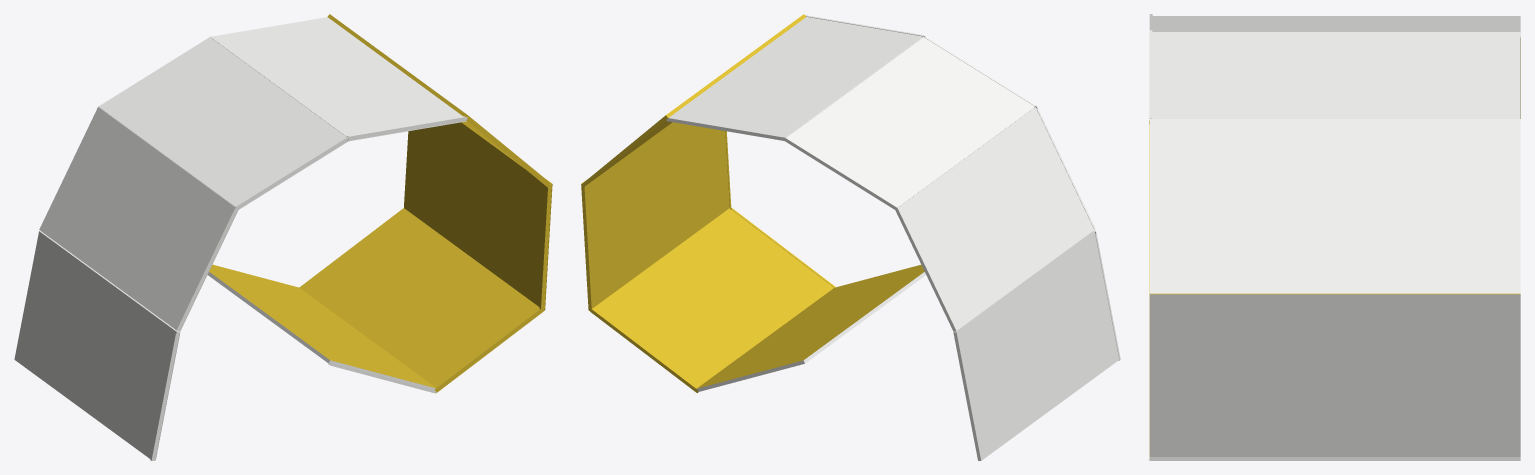
Rendered from mamparas al fallo.glb.
3 views of the same model, side by side, from view 1: azimuth 30°, elevation 25°; view 2: azimuth 150°, elevation 25°; view 3: azimuth 270°, elevation 25° (orthographic). The views are drawn at different scales.
Visible parts, largest first — view 1: Body6, Body11, Body7, Body1, Body10, Body8, Body12, Body9; view 2: Body6, Body11, Body7, Body1, Body10, Body8, Body12, Body9; view 3: Body9, Body10, Body8, Body7, Body11, Body6.
Part boxes in pixels (x1,y1,x2,y2): Body6: (39, 106, 238, 331); Body11: (299, 208, 543, 392); Body7: (98, 36, 349, 210); Body1: (14, 231, 180, 460); Body10: (404, 122, 552, 311); Body8: (210, 17, 467, 141); Body12: (207, 264, 436, 393); Body9: (327, 14, 551, 187); Body6: (895, 106, 1095, 331); Body11: (590, 208, 835, 392); Body7: (784, 36, 1036, 209); Body1: (953, 231, 1120, 460); Body10: (581, 122, 731, 310); Body8: (666, 15, 923, 140); Body12: (696, 265, 925, 391); Body9: (582, 14, 805, 186); Body9: (1149, 119, 1520, 293); Body10: (1149, 293, 1520, 456); Body8: (1149, 30, 1520, 123); Body7: (1149, 14, 1520, 36); Body11: (1149, 456, 1520, 460); Body6: (1153, 15, 1520, 118).
Size of the model in its own units: 3.02 by 2 by 1.8.
